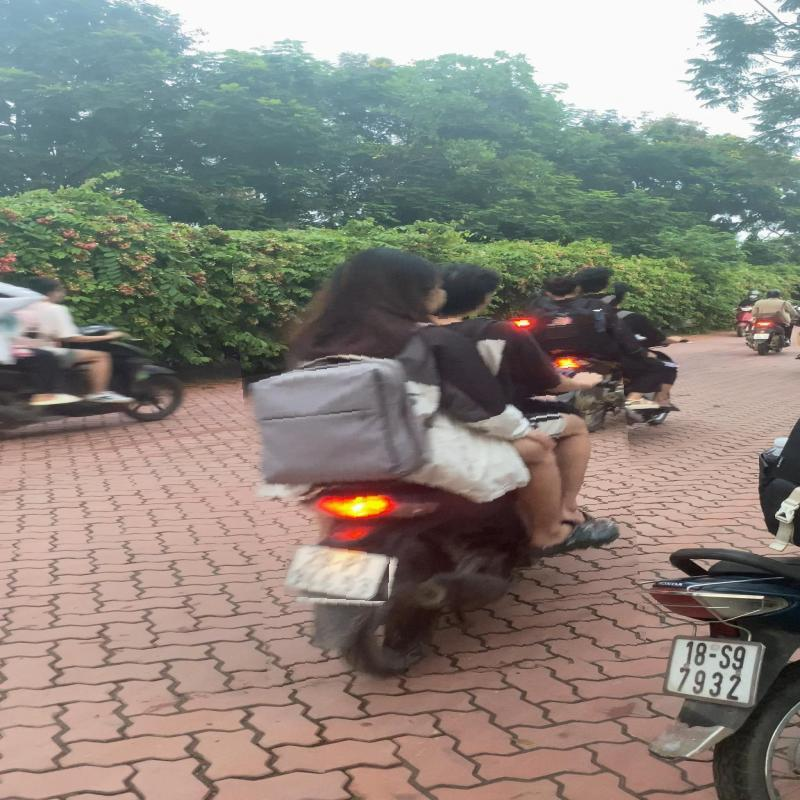licenseplate: (285, 545, 390, 600)
motorcyclist: (241, 238, 638, 683)
nohelmet: (340, 245, 448, 312), (435, 258, 506, 318)
